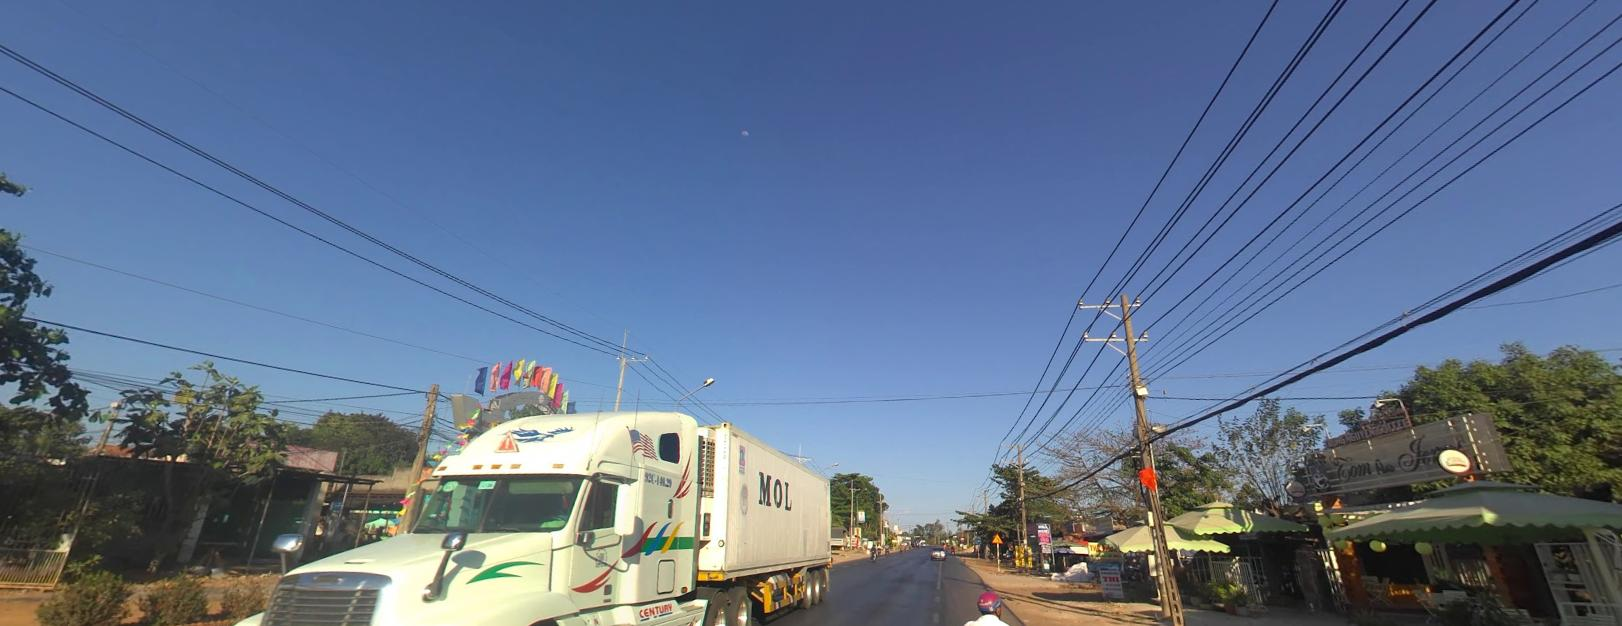Nguy hiem: (991, 533, 1003, 543)
